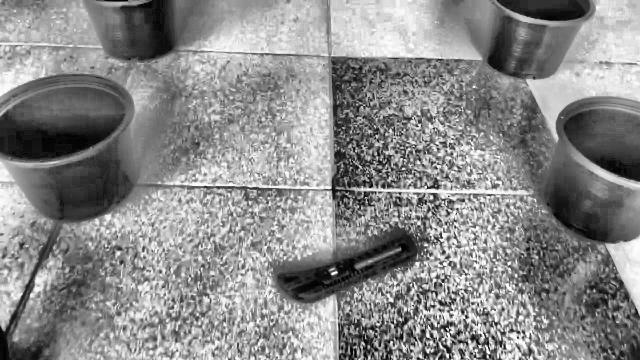pot: (0, 74, 138, 224), (541, 97, 640, 244), (482, 0, 596, 82)
